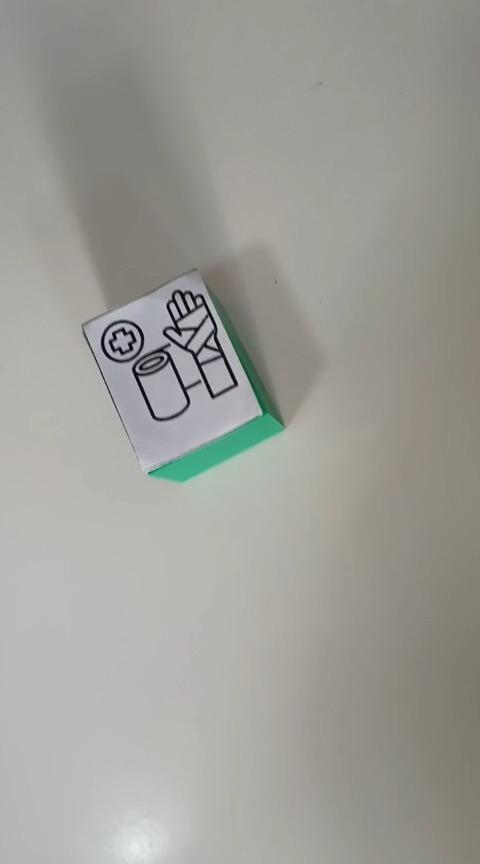Bandages: (80, 266, 285, 482)
